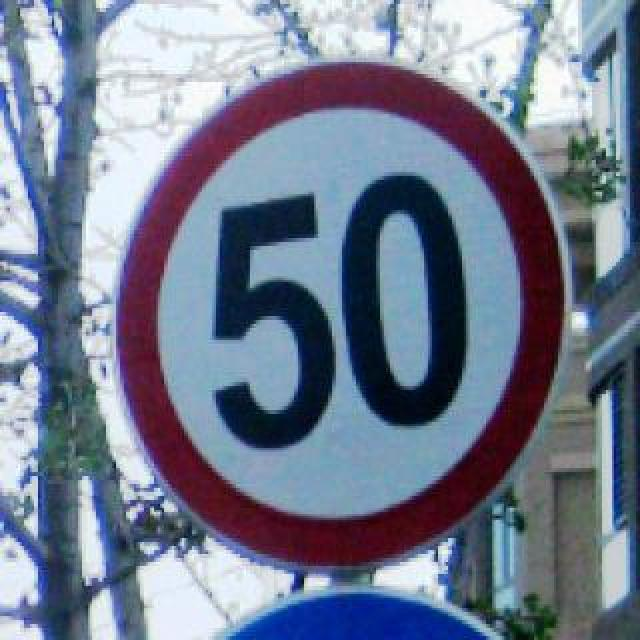50 kph: (110, 50, 566, 566)
